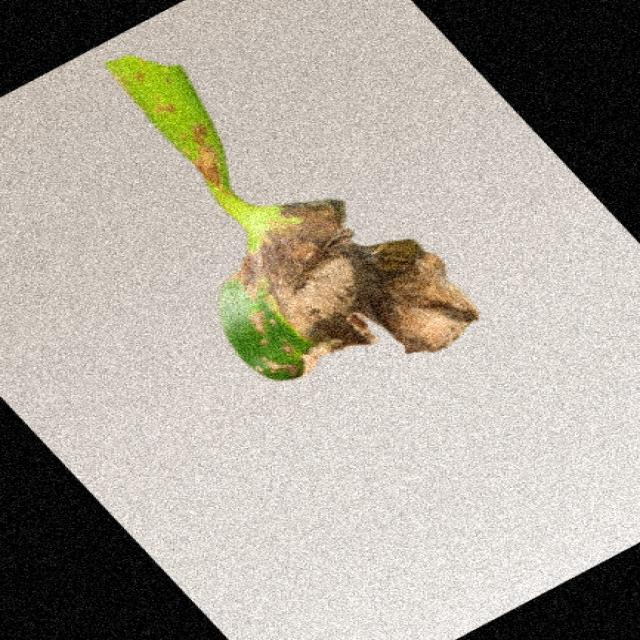daun berpenyakit karat: (107, 56, 478, 380)
